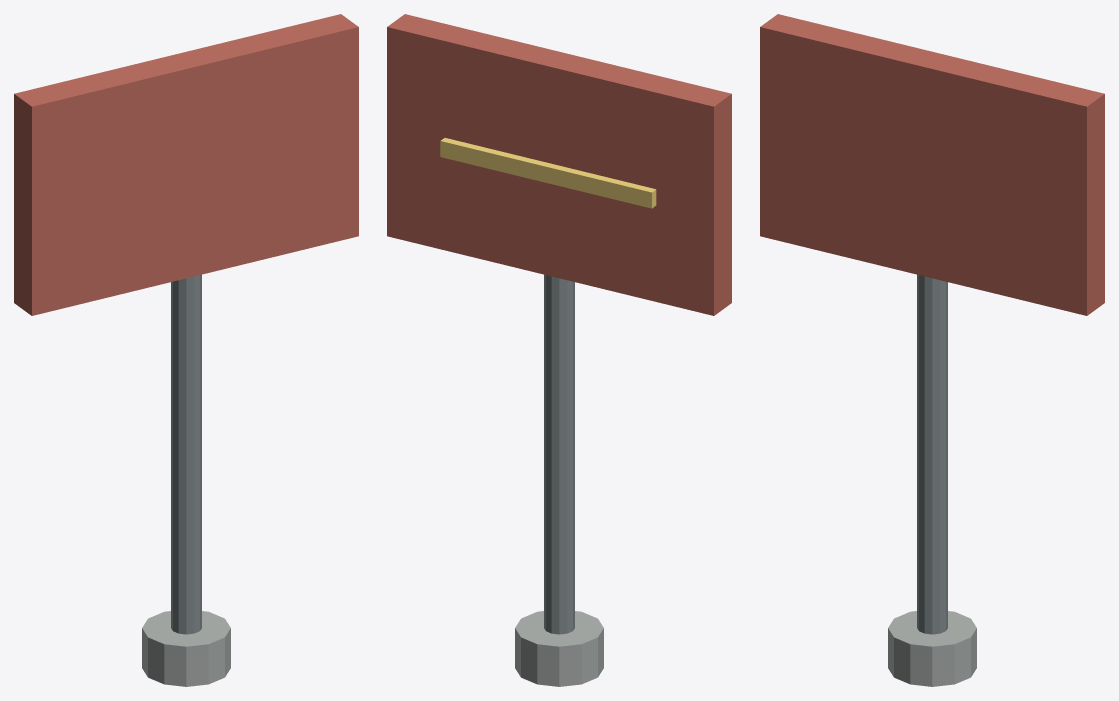
The model's file is PRP_RUIN_003_broken_sign.glb.
3 views of the same model, side by side, from view 1: azimuth 30°, elevation 25°; view 2: azimuth 150°, elevation 25°; view 3: azimuth 330°, elevation 25° (orthographic).
Parts seen in each view (by area): view 1: Part_73, Part_76, Part_74, Part_45, Part_48, Part_42, Part_51, Part_09, Part_12, Part_39, Part_54, Part_06 (+1 smaller); view 2: Part_72, Part_76, Part_74, Part_78, Part_60, Part_57, Part_63, Part_54, Part_82, Part_21, Part_24, Part_66 (+3 smaller); view 3: Part_73, Part_76, Part_75, Part_42, Part_39, Part_45, Part_36, Part_03, Part_06, Part_48, Part_69, Part_00 (+1 smaller).
Part boxes in pixels (bbox=[...]): Part_73: bbox=[32, 27, 358, 315]; Part_76: bbox=[14, 14, 358, 106]; Part_74: bbox=[14, 94, 31, 315]; Part_45: bbox=[186, 276, 194, 634]; Part_48: bbox=[178, 278, 186, 634]; Part_42: bbox=[194, 275, 199, 633]; Part_51: bbox=[173, 280, 178, 633]; Part_09: bbox=[186, 644, 208, 686]; Part_12: bbox=[164, 644, 186, 686]; Part_39: bbox=[200, 274, 201, 630]; Part_54: bbox=[171, 281, 172, 630]; Part_06: bbox=[208, 637, 224, 683]; Part_72: bbox=[387, 27, 713, 315]; Part_76: bbox=[387, 14, 731, 106]; Part_74: bbox=[714, 94, 731, 315]; Part_78: bbox=[440, 141, 651, 208]; Part_60: bbox=[551, 276, 559, 634]; Part_57: bbox=[559, 278, 567, 634]; Part_63: bbox=[546, 275, 551, 633]; Part_54: bbox=[567, 280, 572, 633]; Part_82: bbox=[441, 138, 655, 192]; Part_21: bbox=[559, 644, 581, 686]; Part_24: bbox=[537, 644, 559, 686]; Part_66: bbox=[544, 274, 545, 630]; Part_73: bbox=[760, 27, 1086, 315]; Part_76: bbox=[760, 14, 1104, 106]; Part_75: bbox=[1087, 94, 1104, 315]; Part_42: bbox=[924, 276, 932, 634]; Part_39: bbox=[932, 278, 940, 634]; Part_45: bbox=[919, 275, 924, 633]; Part_36: bbox=[940, 280, 945, 633]; Part_03: bbox=[932, 644, 954, 686]; Part_06: bbox=[910, 644, 932, 686]; Part_48: bbox=[917, 274, 918, 630]; Part_69: bbox=[946, 281, 947, 630]; Part_00: bbox=[954, 637, 970, 683].
Bounding box in the file's own units: 0.85 × 1.51 × 0.2.
